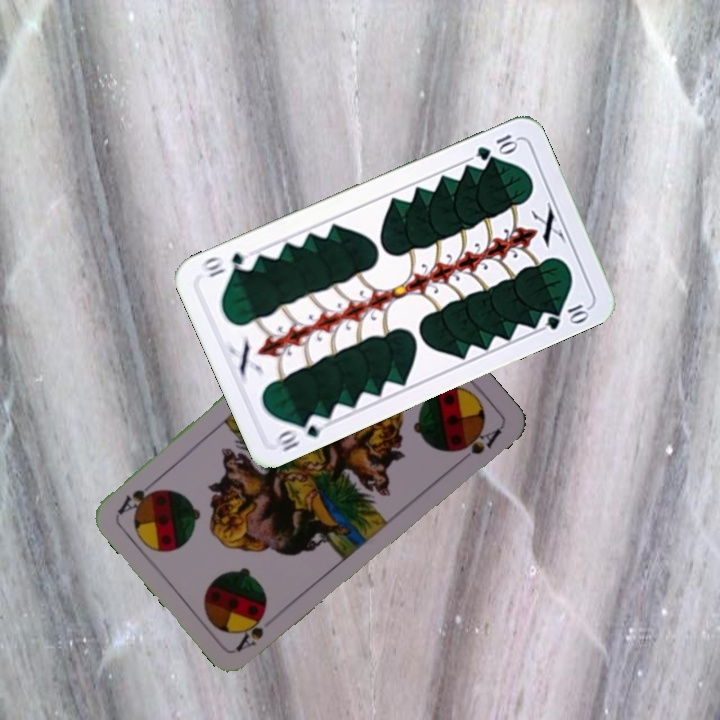G10: (270, 410, 330, 455), (471, 130, 520, 163)
SA: (232, 612, 267, 654)
